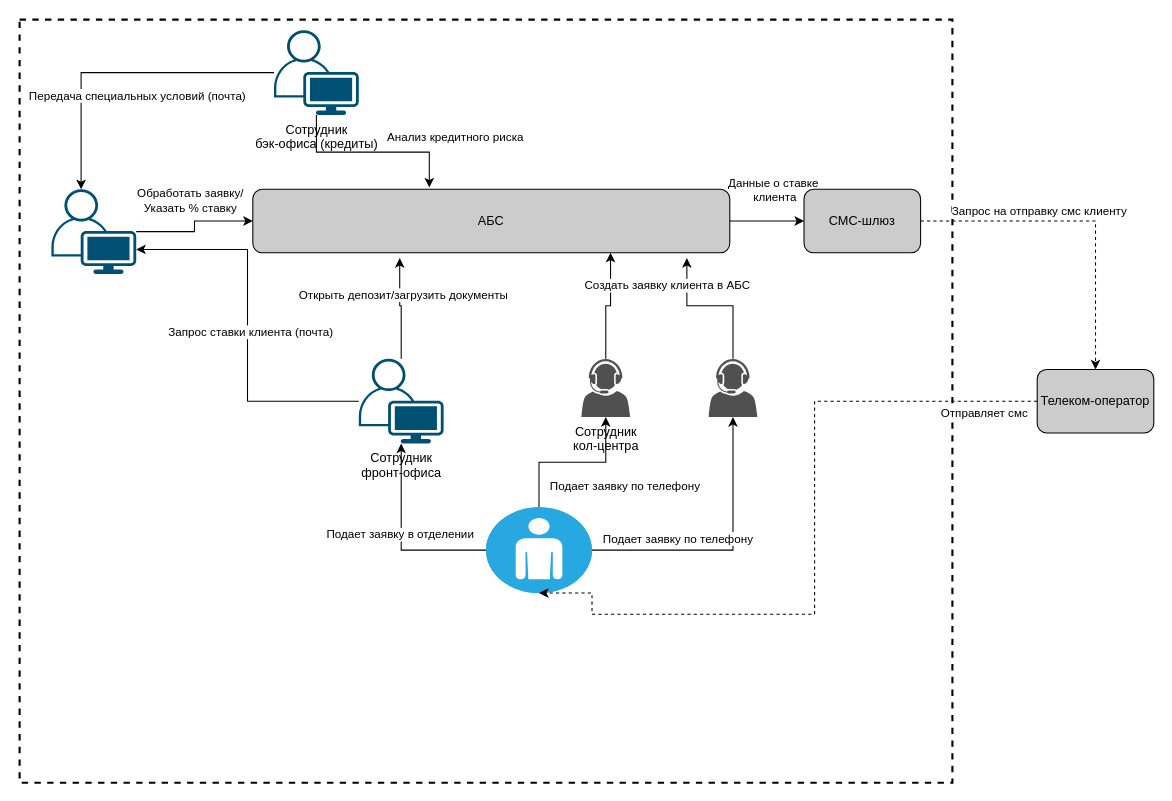
Image size: 1172x801. Some labels were removed from this diagram. Here are the shapes that lost their labels. From the top down, the box of each, then its label:
(51, 189, 136, 273): Сотрудник бэк-офиса (депозиты)
(708, 358, 757, 417): Сотрудник партнерского кол-центра
(485, 506, 592, 593): Клиент банка
